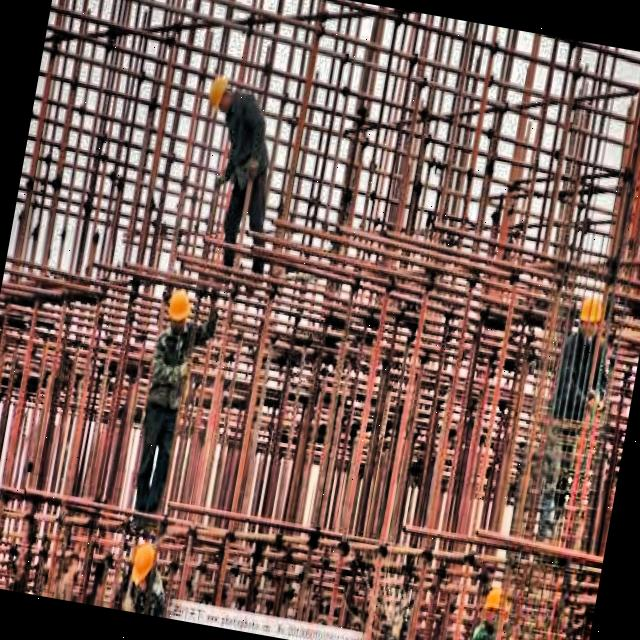helmet: (572, 286, 608, 346), (126, 536, 159, 592), (204, 71, 240, 122), (478, 583, 512, 632), (163, 284, 193, 330)
